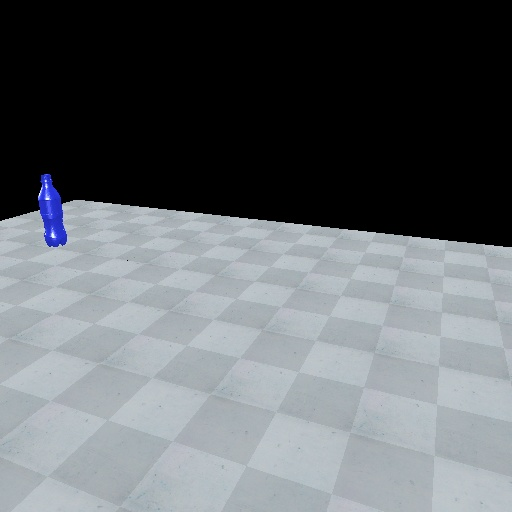bottle: (35, 171, 69, 249)
